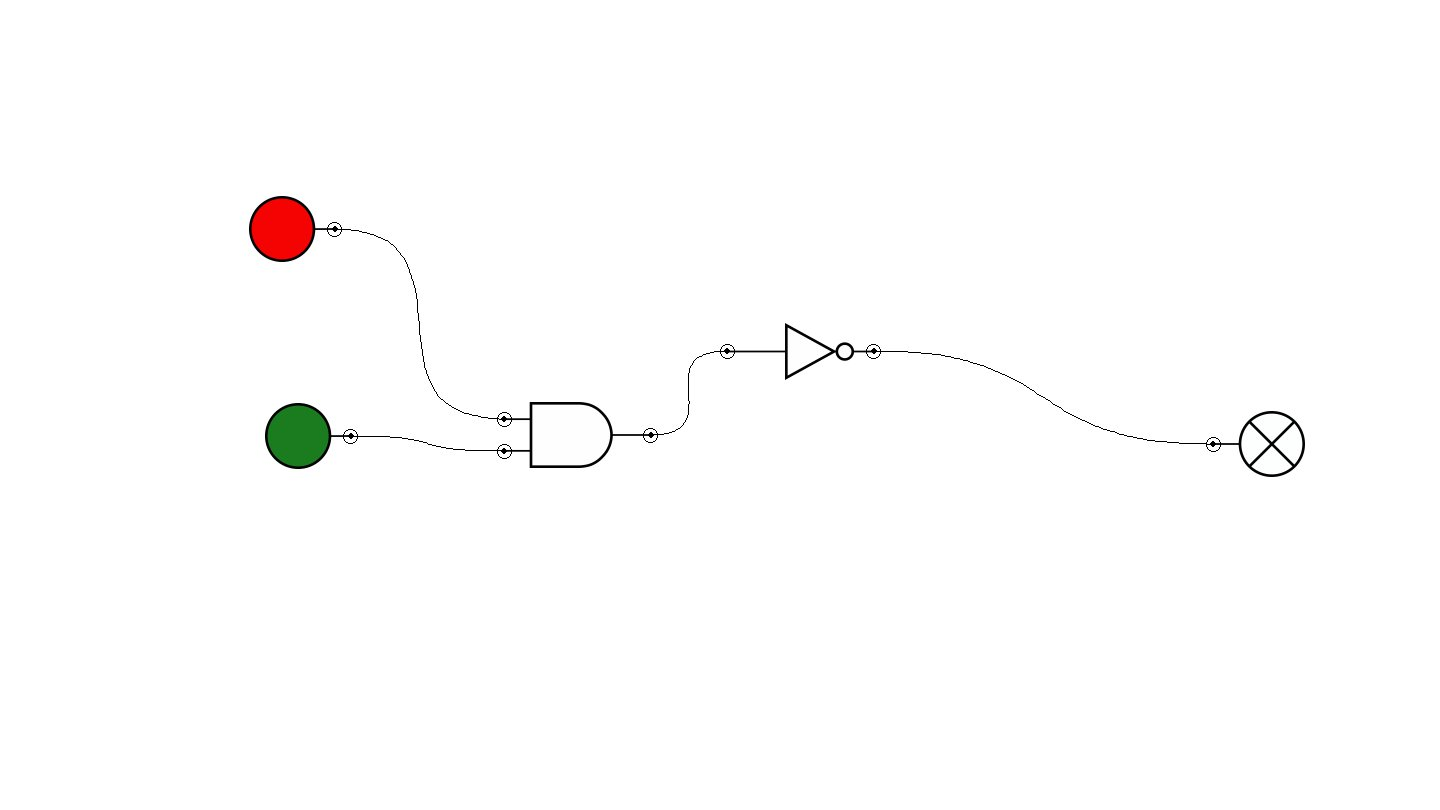and: (497, 402, 658, 468)
bulb: (1206, 411, 1305, 477)
not: (720, 323, 881, 380)
switch_False: (249, 196, 342, 262)
switch_True: (265, 403, 358, 469)
